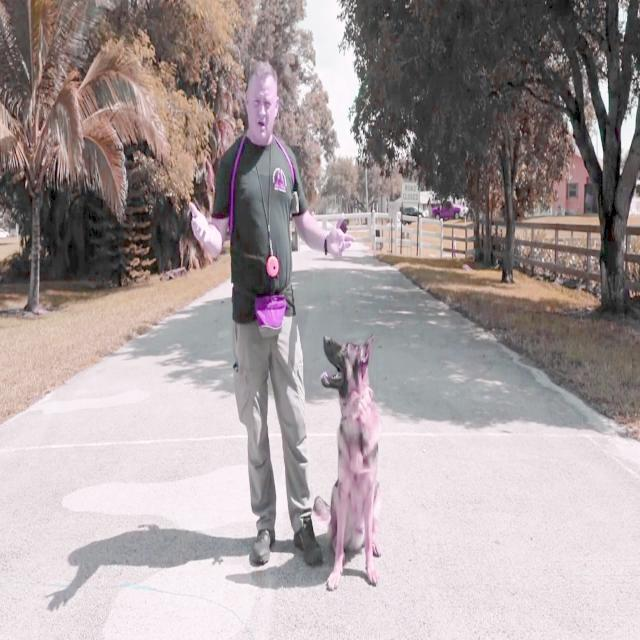Unleashed_Dog: (257, 304, 384, 591)
